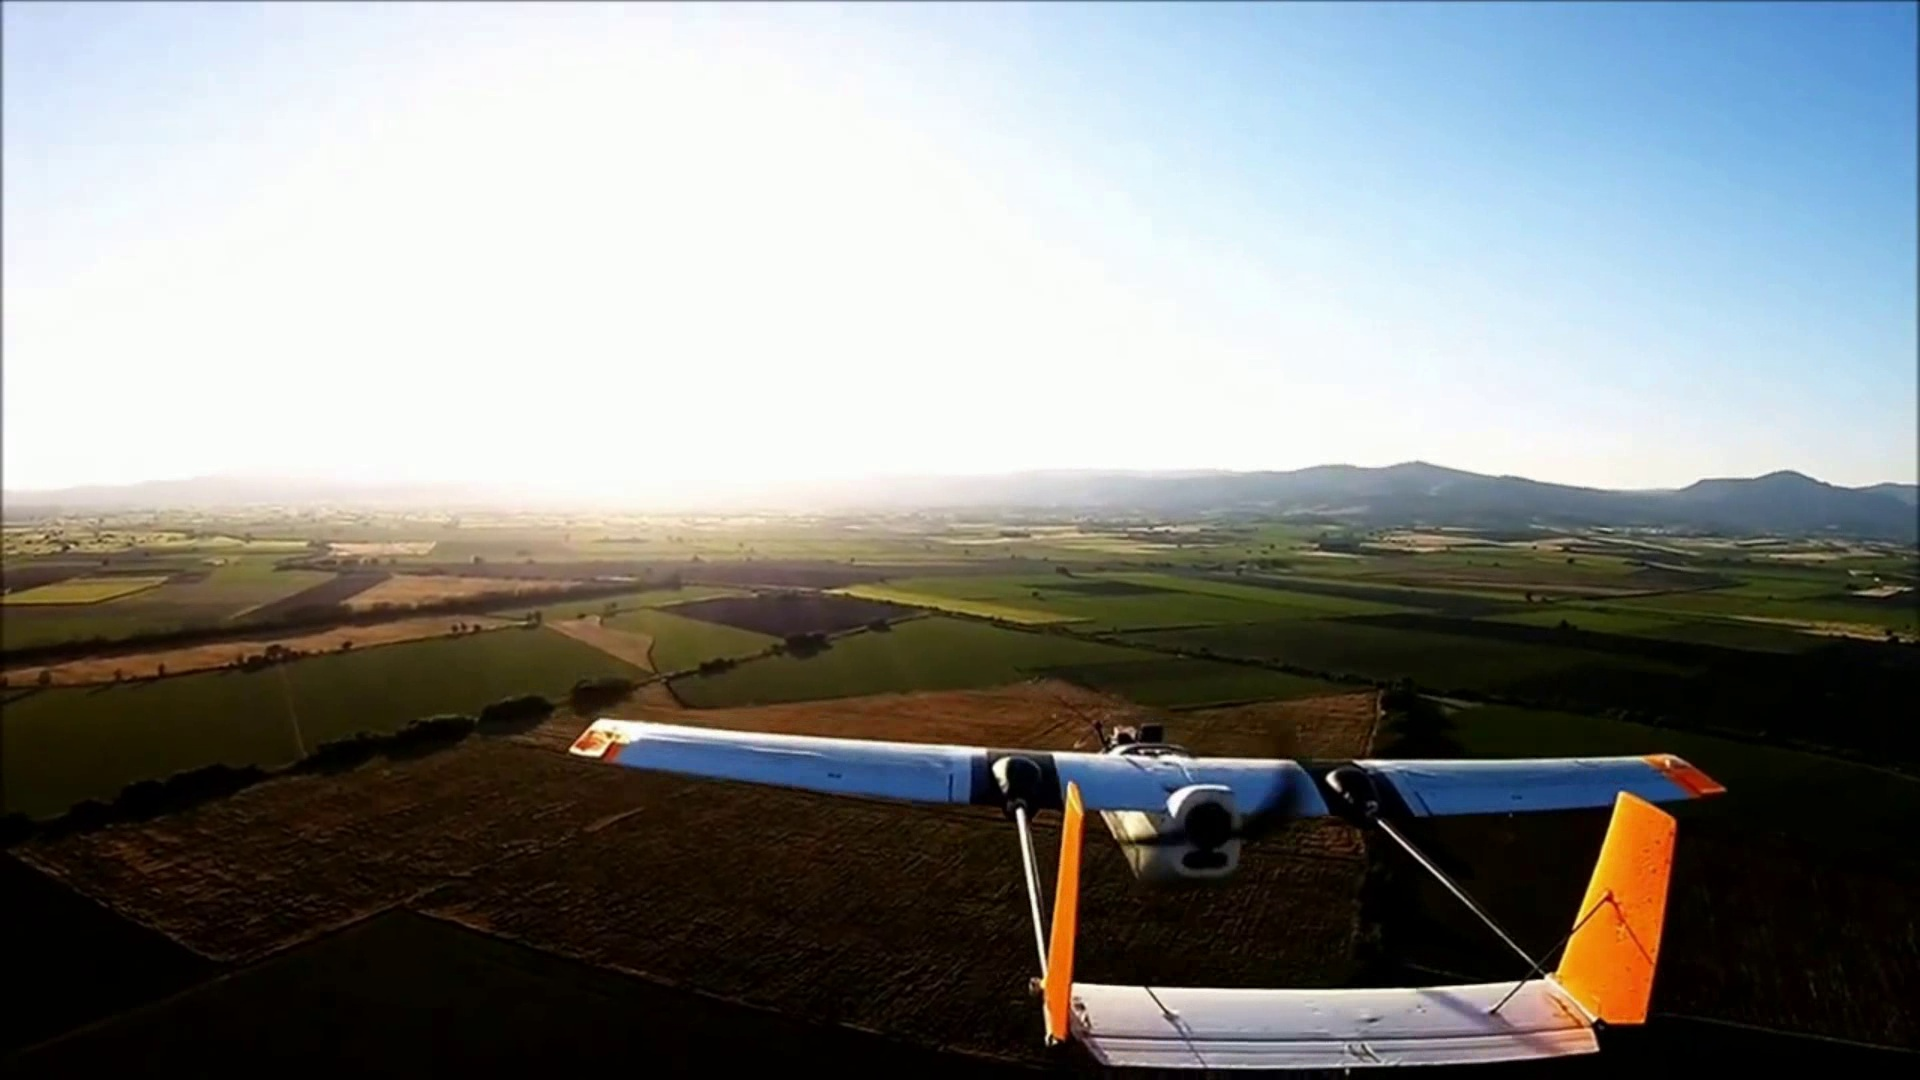airplane: (570, 744, 1722, 1065)
